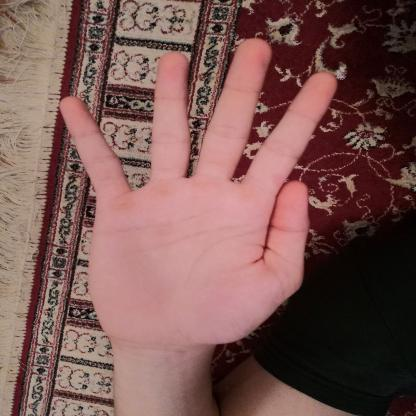SHEEN: (36, 32, 349, 357)
